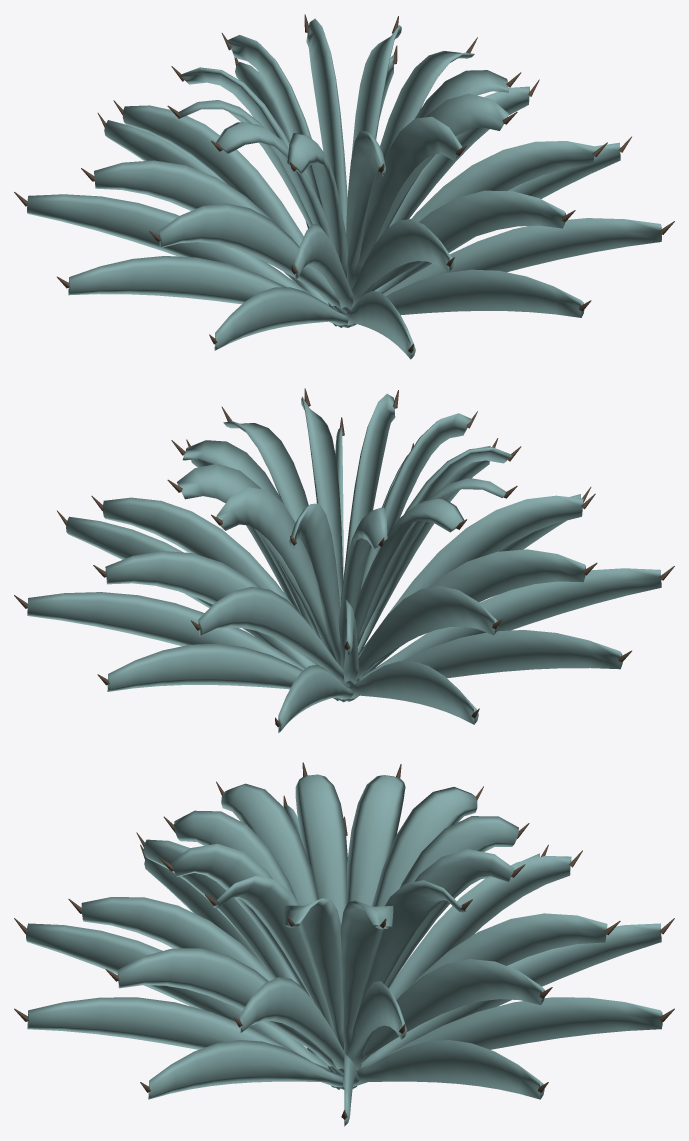
The model's file is succulent_century_agave.glb.
3 renders of one model, top to bottom at view 1: azimuth 30°, elevation 25°; view 2: azimuth 150°, elevation 25°; view 3: azimuth 270°, elevation 25°, orthographic. The views are drawn at different scales.
Parts seen in each view (by area): view 1: Flora_Century_Agave; view 2: Flora_Century_Agave; view 3: Flora_Century_Agave.
Part boxes in pixels (x1,y1,x2,y2): Flora_Century_Agave: [14, 14, 674, 359]; Flora_Century_Agave: [14, 388, 674, 732]; Flora_Century_Agave: [14, 762, 674, 1126].
Bounding box in the file's own units: 3.96 × 1.63 × 3.77.
